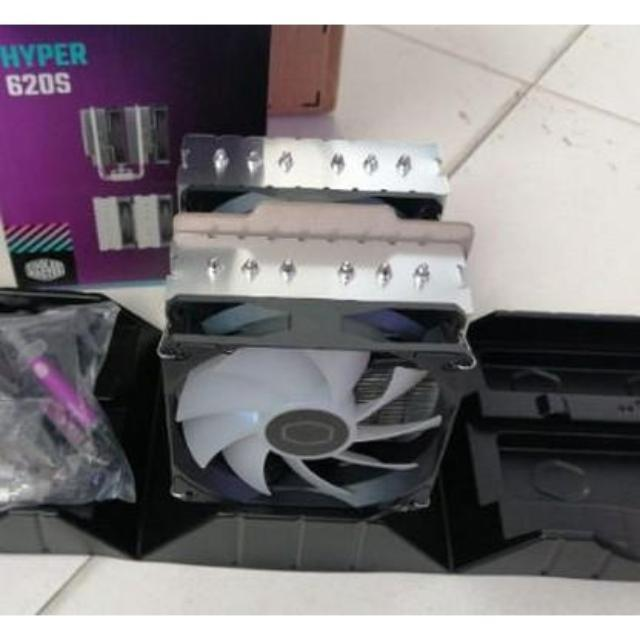CPU_Fan: (149, 120, 471, 528)
